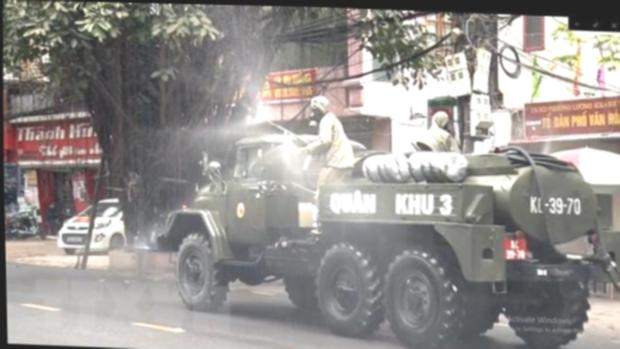License_Plate: (501, 236, 529, 262)
